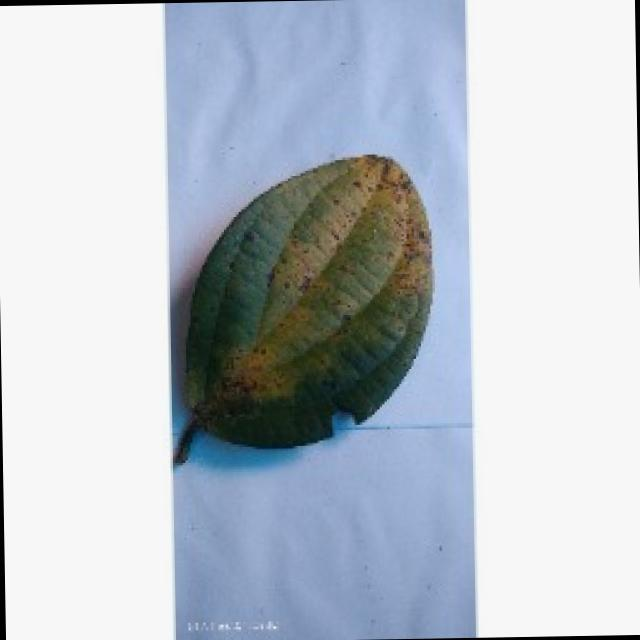slow-decline: (159, 136, 440, 466)
